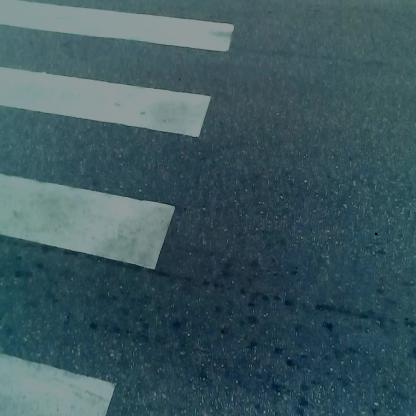crosswalk: (1, 12, 242, 416)
